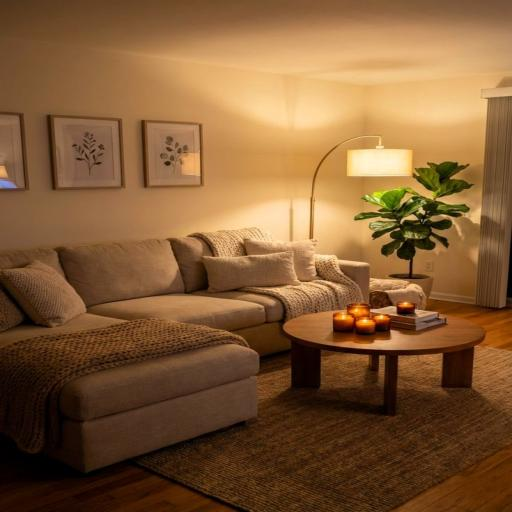hole: (0, 228, 369, 472)
phone: (283, 311, 485, 415)
